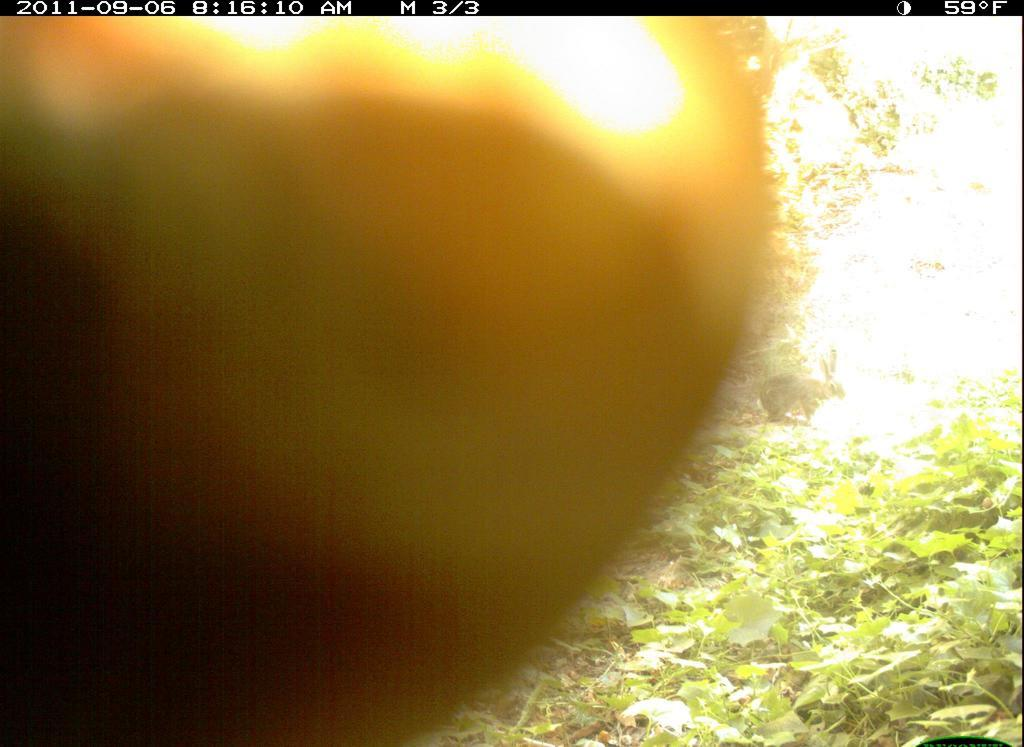rabbit: (1, 13, 824, 747)
